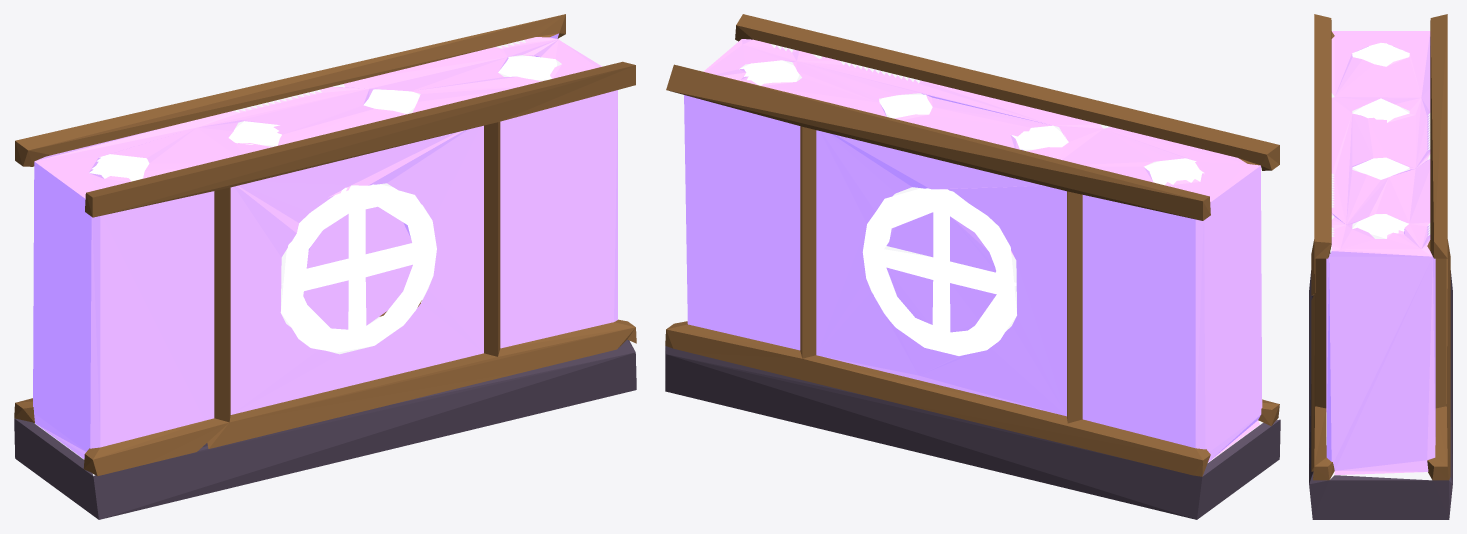
File: barrier_spirit.glb
3 renders of one model, left to right at view 1: azimuth 30°, elevation 25°; view 2: azimuth 150°, elevation 25°; view 3: azimuth 270°, elevation 25°, orthographic. The views are drawn at different scales.
Parts seen in each view (by area): view 1: barrier_spirit; view 2: barrier_spirit; view 3: barrier_spirit.
Part boxes in pixels (<box>): barrier_spirit: <box>14,14,636,519</box>; barrier_spirit: <box>665,14,1280,519</box>; barrier_spirit: <box>1309,14,1452,519</box>.
Bounding box in the file's own units: 2.4 × 1.37 × 0.64.
